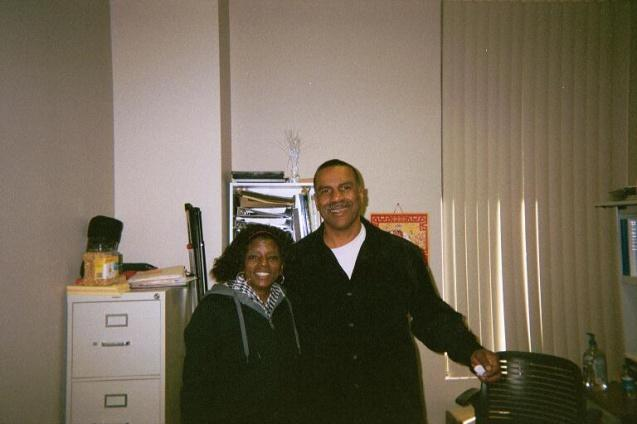Filing Cabinet: (63, 287, 166, 423)
